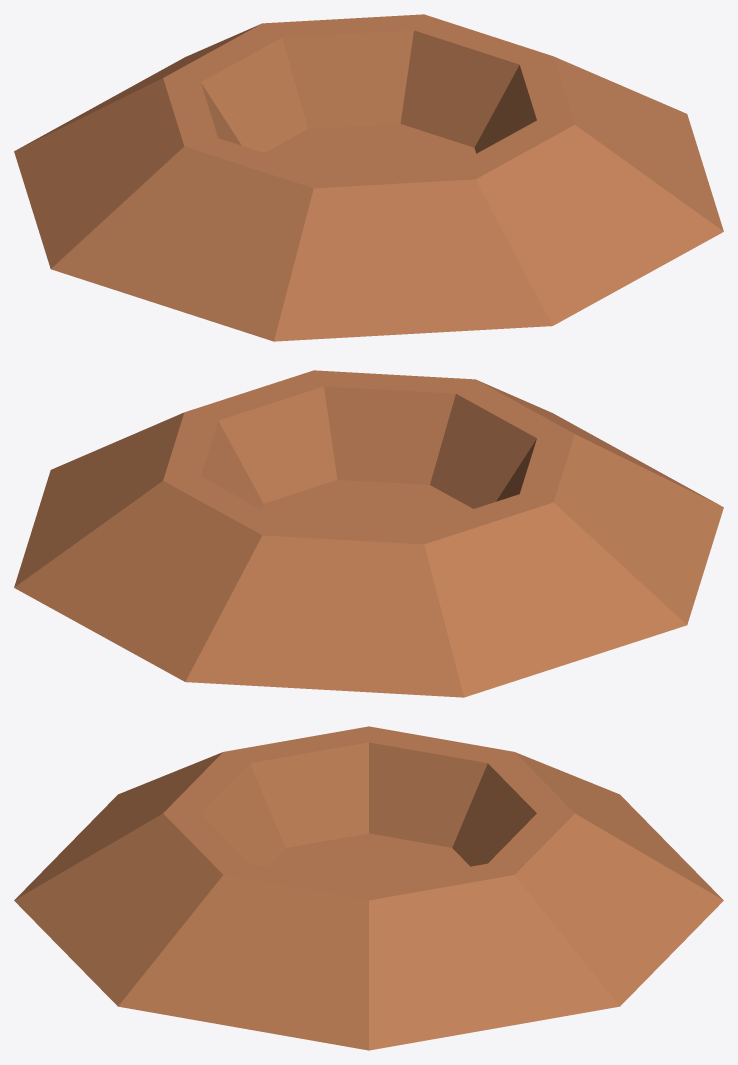
File: craterlarge.glb
3 renders of one model, top to bottom at view 1: azimuth 30°, elevation 25°; view 2: azimuth 150°, elevation 25°; view 3: azimuth 270°, elevation 25°, orthographic. The views are drawn at different scales.
Parts seen in each view (by area): view 1: craterLarge; view 2: craterLarge; view 3: craterLarge.
Part boxes in pixels (box(x1,y1,x2,y2)): craterLarge: box(14, 14, 723, 341); craterLarge: box(14, 370, 723, 697); craterLarge: box(14, 726, 723, 1050).
Size of the model in its own units: 8.86 by 1.2 by 8.86.
